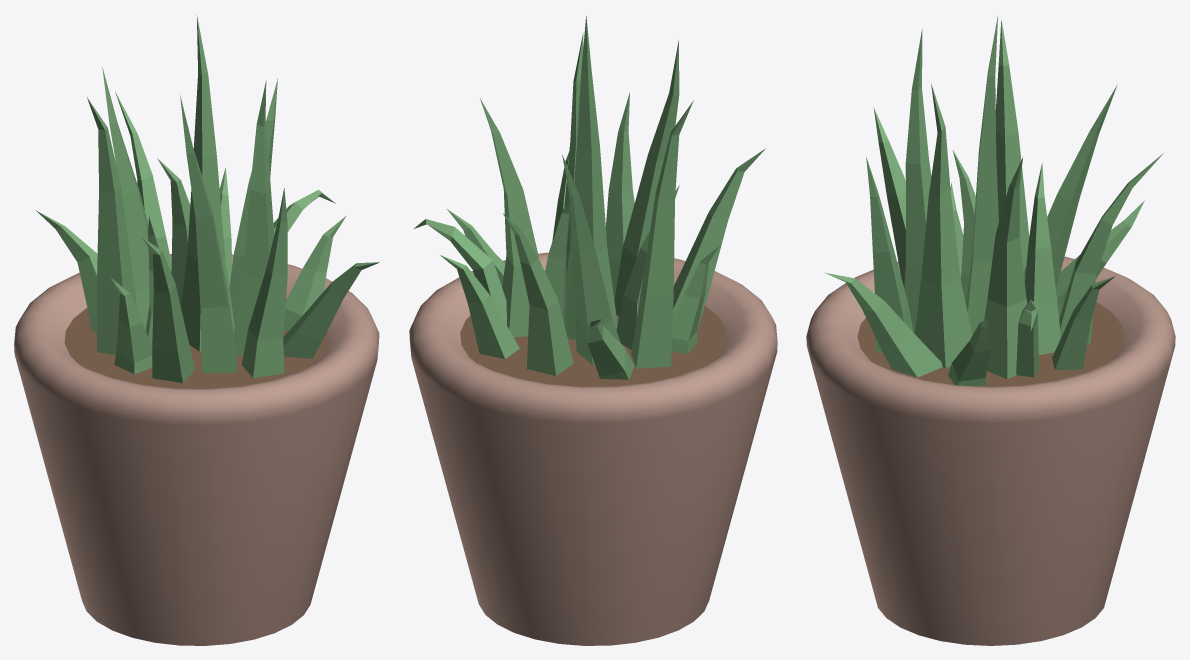
Rendered from Plant A.fbx.
The picture shows the model from 3 angles, left to right: view 1: azimuth 30°, elevation 25°; view 2: azimuth 150°, elevation 25°; view 3: azimuth 270°, elevation 25°; orthographic projection.
Visible parts, largest first — view 1: Plant A; view 2: Plant A; view 3: Plant A.
Boxes of the visible parts, x1,y1,x2,y2 form: Plant A: [14, 14, 379, 645]; Plant A: [409, 16, 777, 645]; Plant A: [806, 16, 1175, 645].
Size of the model in its own units: 0.4622 by 0.8056 by 0.4611.
